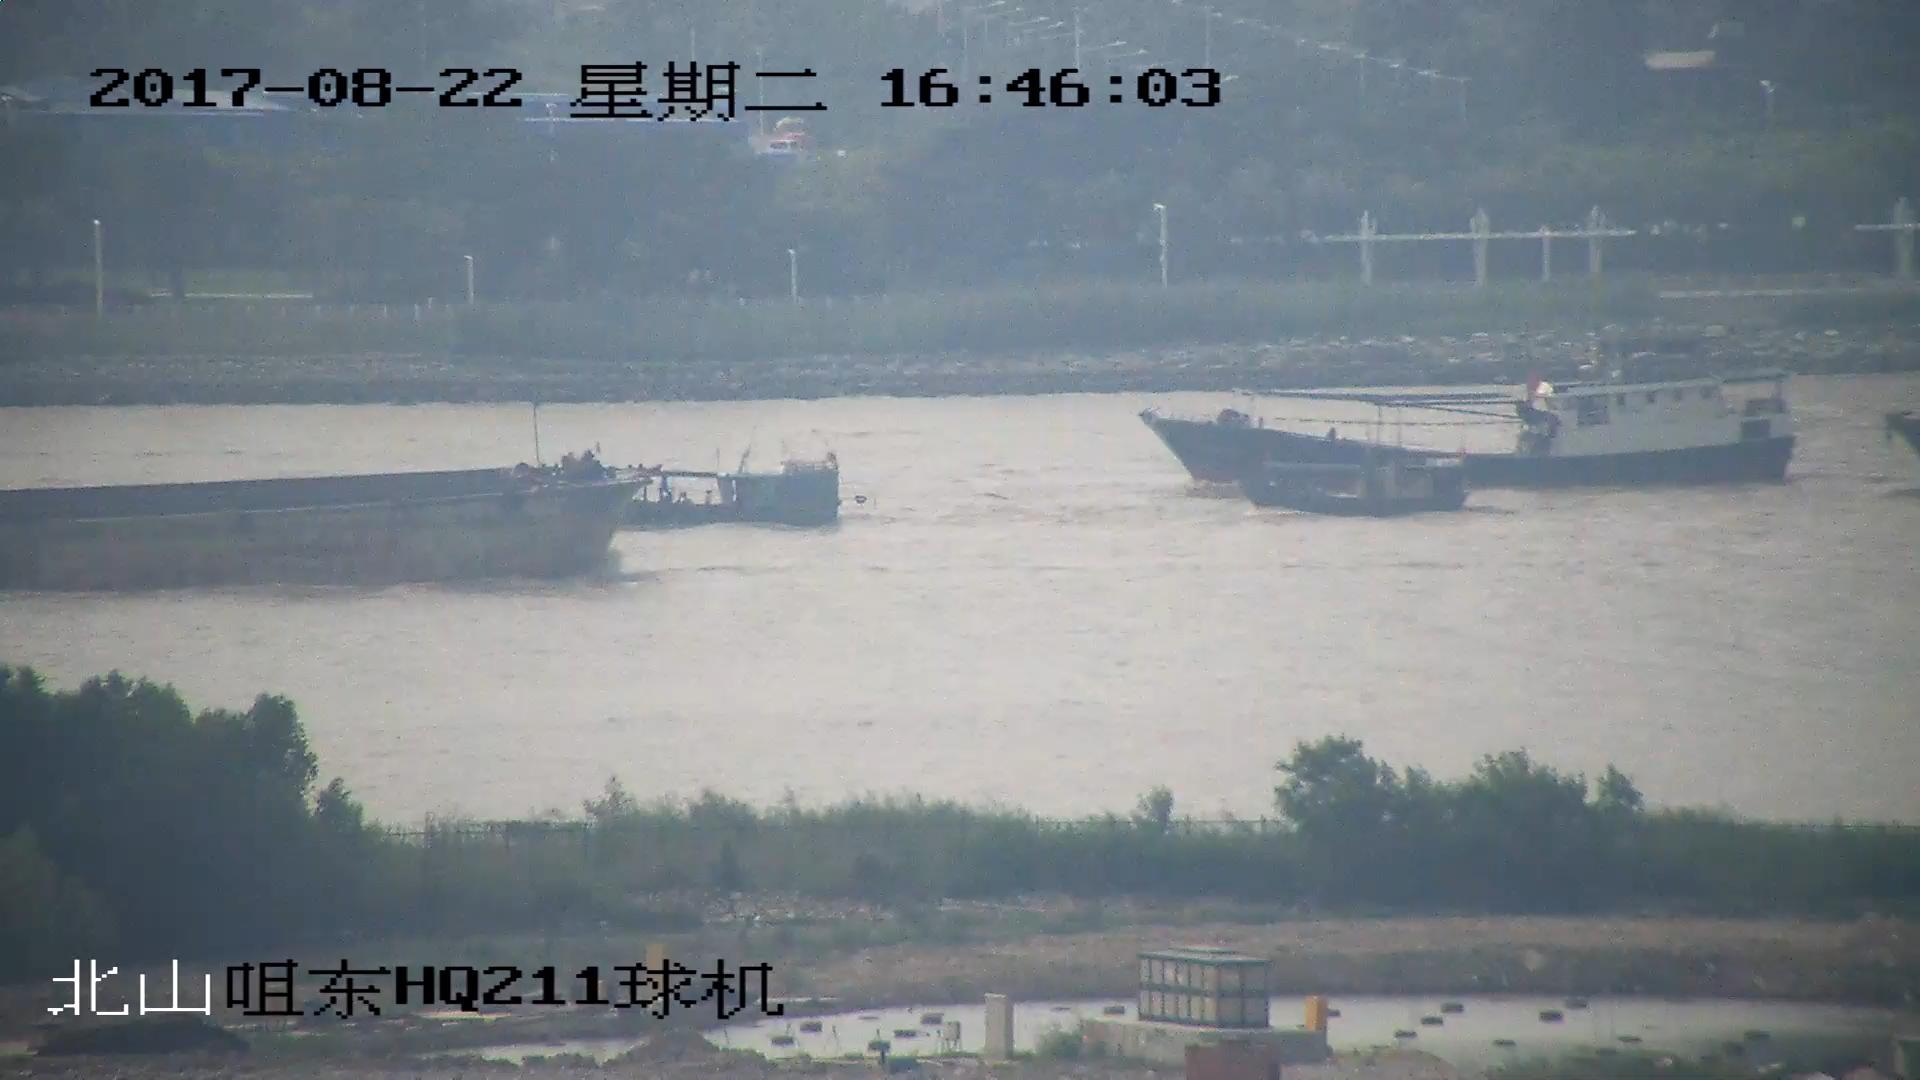Ship: (3, 448, 655, 588), (1149, 364, 1796, 492), (600, 459, 851, 531), (1240, 458, 1464, 516)
